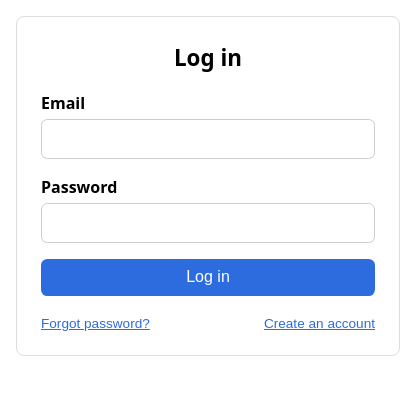
Test case: shows an invalid-credentials message on 401
This screenshot has width=417, height=413.
Step 1. Type "me@example.com" into the field labelled "Email" → (208, 139), box top-left (41, 119), bottom-right (375, 159)
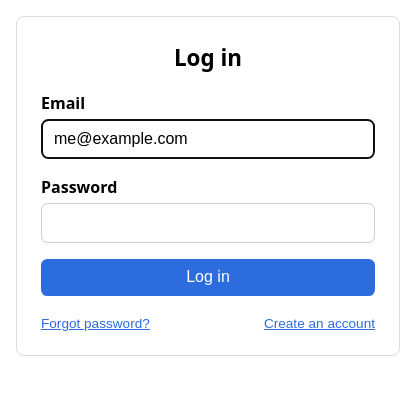
Step 2. Type "longpassword1" into the password field labelled "Password" → (208, 223), box top-left (41, 203), bottom-right (375, 243)
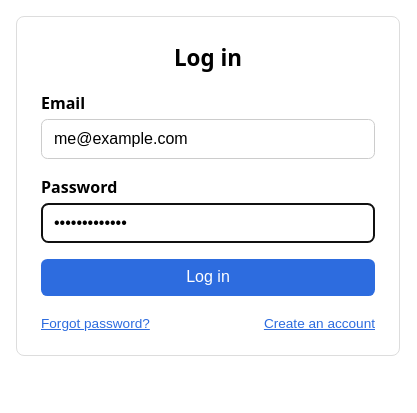
Step 3. Click the button "Log in" → (208, 277), box top-left (41, 259), bottom-right (375, 296)
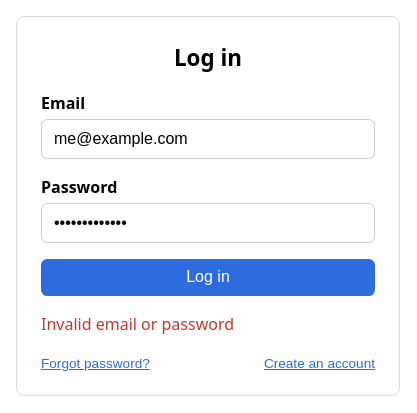
Now the text "Invalid email or password" is shown, box top-left (41, 313), bottom-right (234, 335)
